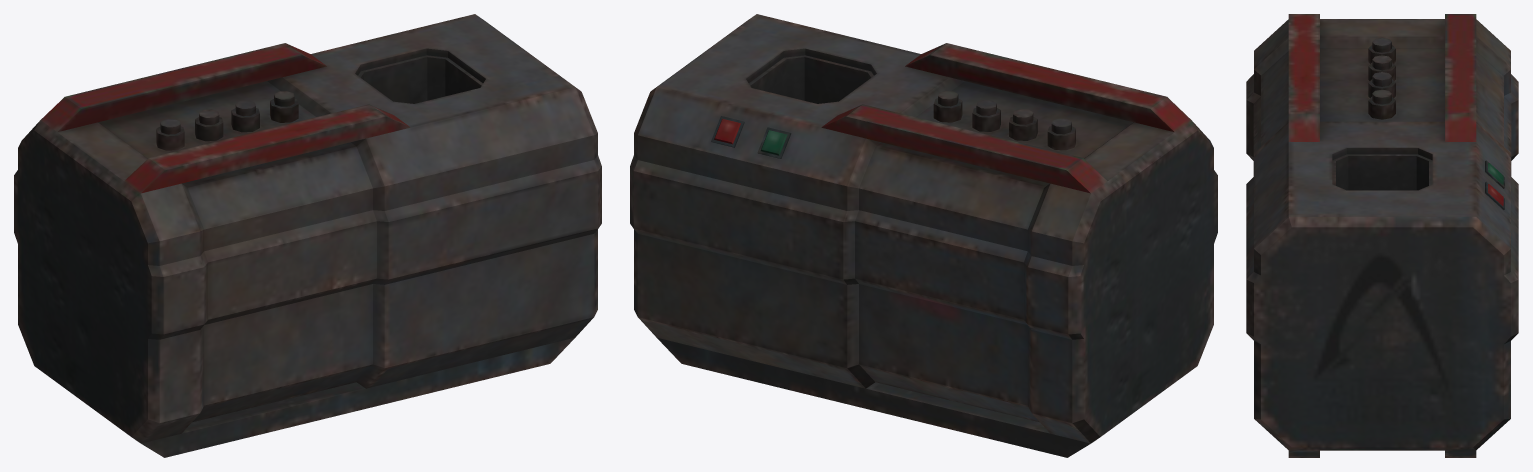
The model's file is Generator.FBX.
3 views of the same model, side by side, from view 1: azimuth 30°, elevation 25°; view 2: azimuth 150°, elevation 25°; view 3: azimuth 270°, elevation 25° (orthographic). The views are drawn at different scales.
Visible parts, largest first — view 1: Generator; view 2: Generator, RedLight, GreenLight; view 3: Generator.
Boxes of the visible parts, left/top/right/bottom form: Generator: left=14, top=14, right=601, bottom=457; Generator: left=630, top=14, right=1217, bottom=457; RedLight: left=711, top=116, right=744, bottom=147; GreenLight: left=757, top=127, right=791, bottom=158; Generator: left=1246, top=14, right=1518, bottom=457.
Size of the model in its own units: 100 by 61.02 by 56.03.
Materials: 2 (2 with a texture image).
